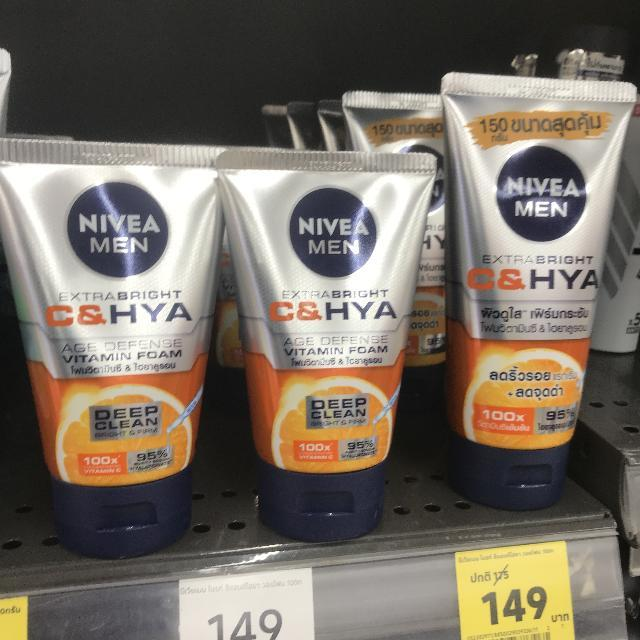Squeeze Tube: (6, 133, 224, 559), (443, 76, 638, 518), (224, 152, 435, 539)
